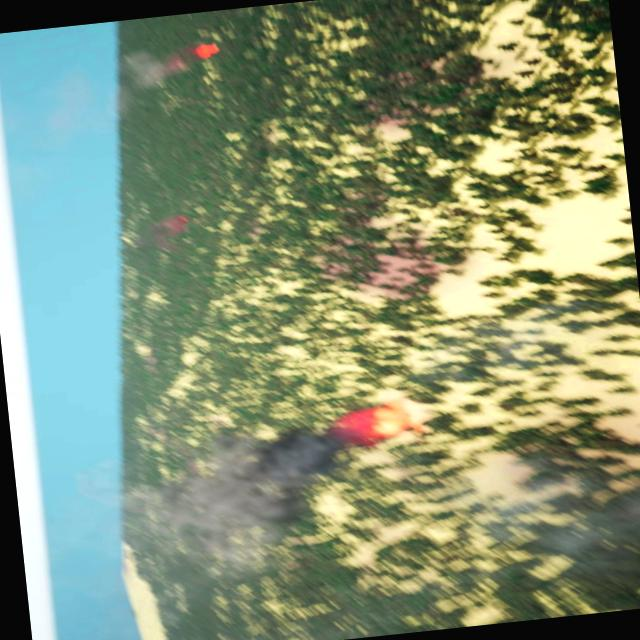fire: (342, 402, 408, 443), (193, 41, 220, 59)
smoke: (70, 426, 348, 591), (36, 44, 195, 151), (147, 212, 193, 246)
